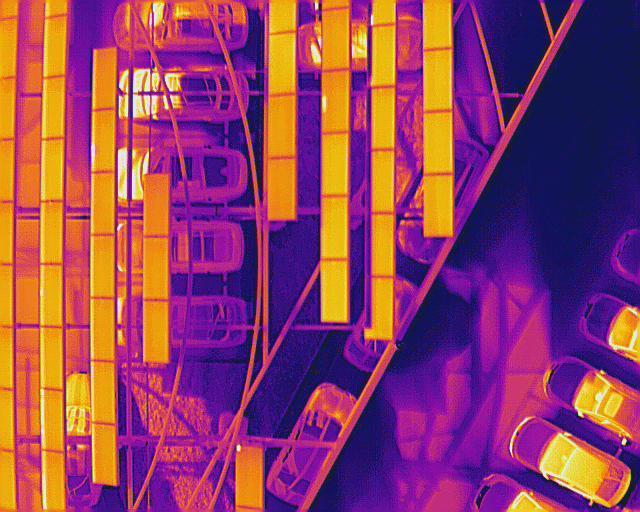panel: (423, 172, 452, 237), (322, 7, 351, 72), (322, 67, 350, 134), (425, 48, 454, 111), (425, 110, 453, 175), (268, 156, 296, 220), (268, 32, 296, 96), (269, 93, 296, 159), (322, 132, 349, 197), (236, 445, 264, 507), (322, 195, 349, 259), (92, 47, 119, 111), (322, 259, 349, 322), (91, 234, 116, 300), (43, 15, 68, 81), (40, 136, 65, 201), (144, 237, 169, 302), (91, 172, 116, 236), (371, 86, 396, 149), (144, 174, 169, 237), (92, 108, 116, 173), (42, 74, 65, 141), (39, 263, 63, 327), (372, 149, 395, 215), (40, 200, 63, 266), (372, 24, 396, 87), (144, 300, 169, 360), (90, 300, 114, 362), (92, 360, 115, 424), (42, 326, 64, 392), (92, 423, 115, 486), (372, 215, 395, 277), (372, 278, 395, 339), (41, 389, 63, 452), (42, 451, 63, 512)
